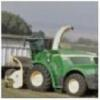tractors: (10, 24, 98, 96)
